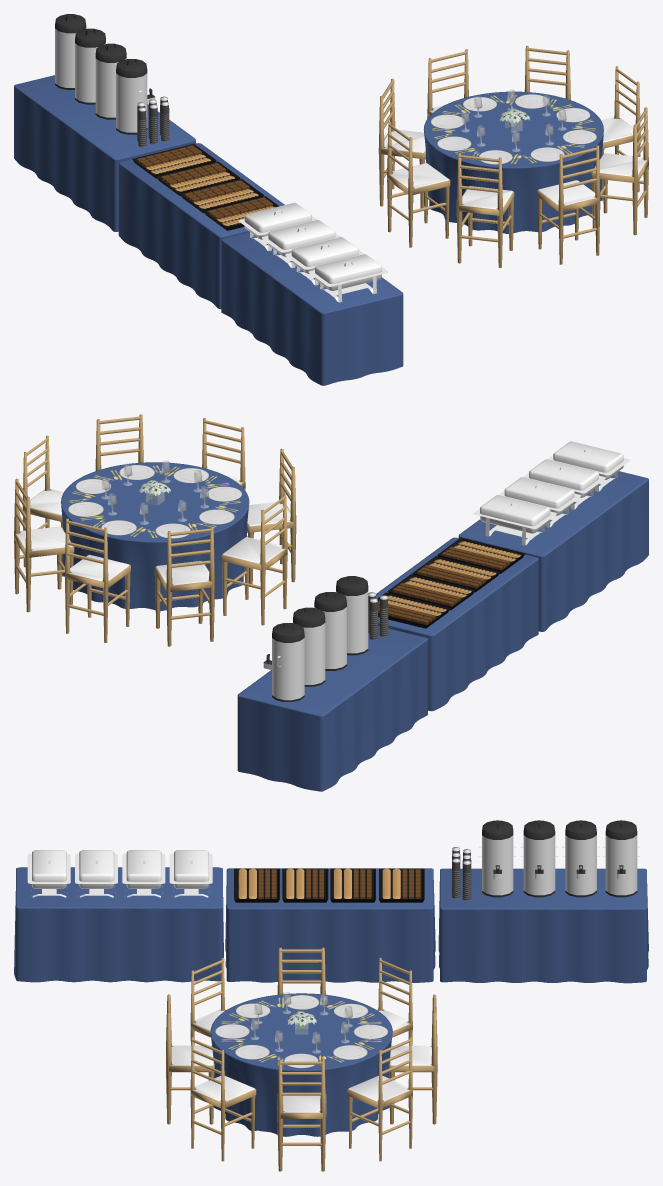
File: resto.glb
The picture shows the model from 3 angles, top to bottom: view 1: azimuth 30°, elevation 25°; view 2: azimuth 150°, elevation 25°; view 3: azimuth 270°, elevation 25°; orthographic projection. The views are drawn at different scales.
Visible parts, largest first — view 1: Table.001_12, Cube.1039_Cube.1484_4, Table.000_13, Cube.1033_Cube.1478_2, Cube.1032_Cube.1477_1, Cube.1038_Cube.1483_3, Cube.919_Cube.001_7, Cube_0, Table.003_15, Cube.919_Cube.1269_8, Cylinder.008_9, Cube.918_Cube.000_5 (+3 smaller); view 2: Table.001_12, Cube.1033_Cube.1478_2, Table.000_13, Cube.1039_Cube.1484_4, Cube.1032_Cube.1477_1, Cube.1038_Cube.1483_3, Cube.919_Cube.001_7, Table.003_15, Cube_0, Cube.918_Cube.000_5, Cube.919_Cube.1269_8, Cylinder.008_9 (+3 smaller); view 3: Cube.1033_Cube.1478_2, Cube.1039_Cube.1484_4, Cube.1032_Cube.1477_1, Table.001_12, Table.000_13, Cube.919_Cube.001_7, Cube.1038_Cube.1483_3, Cube.918_Cube.000_5, Table.003_15, Cube.919_Cube.1269_8, Cylinder.008_9, Cube_0 (+3 smaller).
Boxes of the visible parts, <box> form: Table.001_12: <box>378,45,648,267</box>; Cube.1039_Cube.1484_4: <box>221,232,403,385</box>; Table.000_13: <box>423,91,603,233</box>; Cube.1033_Cube.1478_2: <box>14,75,195,231</box>; Cube.1032_Cube.1477_1: <box>118,143,284,309</box>; Cube.1038_Cube.1483_3: <box>238,203,388,302</box>; Cube.919_Cube.001_7: <box>55,28,155,132</box>; Cube_0: <box>137,145,272,219</box>; Table.003_15: <box>431,94,596,164</box>; Cube.919_Cube.1269_8: <box>55,14,147,77</box>; Cylinder.008_9: <box>146,154,274,225</box>; Cube.918_Cube.000_5: <box>132,144,278,230</box>; Table.001_12: <box>14,414,296,646</box>; Cube.1033_Cube.1478_2: <box>237,626,427,791</box>; Table.000_13: <box>61,462,249,610</box>; Cube.1039_Cube.1484_4: <box>458,471,648,631</box>; Cube.1032_Cube.1477_1: <box>376,537,538,711</box>; Cube.1038_Cube.1483_3: <box>473,441,630,545</box>; Cube.919_Cube.001_7: <box>263,591,368,700</box>; Table.003_15: <box>68,465,241,538</box>; Cube_0: <box>378,547,509,624</box>; Cube.918_Cube.000_5: <box>377,537,525,628</box>; Cube.919_Cube.1269_8: <box>272,576,368,642</box>; Cylinder.008_9: <box>379,541,520,615</box>; Cube.1033_Cube.1478_2: <box>438,868,648,983</box>; Cube.1039_Cube.1484_4: <box>14,867,224,982</box>; Cube.1032_Cube.1477_1: <box>225,868,435,982</box>; Table.001_12: <box>166,947,437,1171</box>; Table.000_13: <box>210,993,392,1136</box>; Cube.919_Cube.001_7: <box>478,835,640,895</box>; Cube.1038_Cube.1483_3: <box>27,850,212,897</box>; Cube.918_Cube.000_5: <box>234,868,424,902</box>; Table.003_15: <box>215,995,387,1068</box>; Cube.919_Cube.1269_8: <box>482,820,637,839</box>; Cylinder.008_9: <box>238,868,400,898</box>; Cube_0: <box>258,869,420,898</box>.
Size of the model in its own units: 3.87 by 1.23 by 4.67.
Materials: 15 (5 with a texture image).
